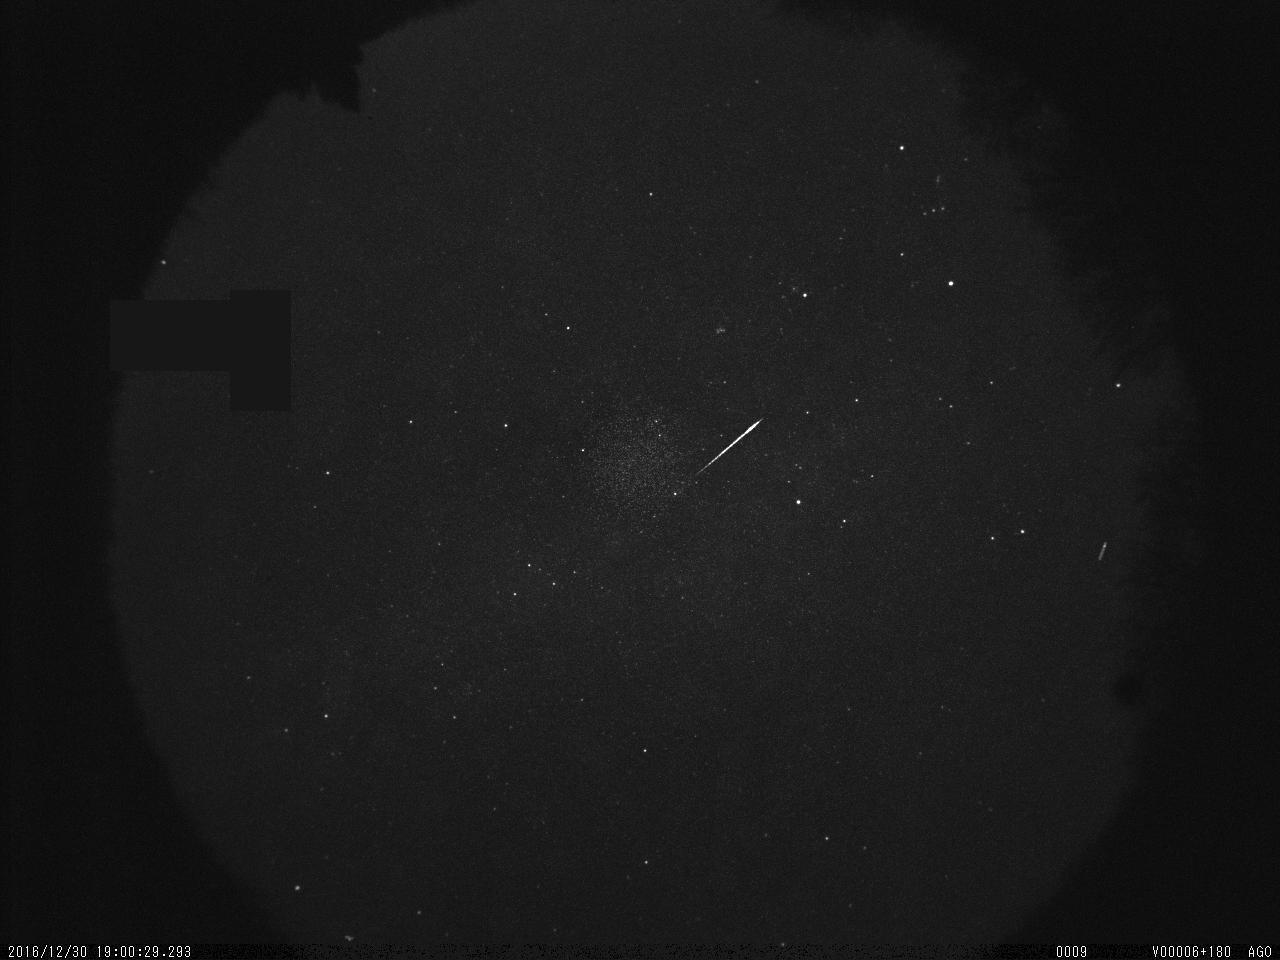Meteor: (693, 410, 772, 482)
